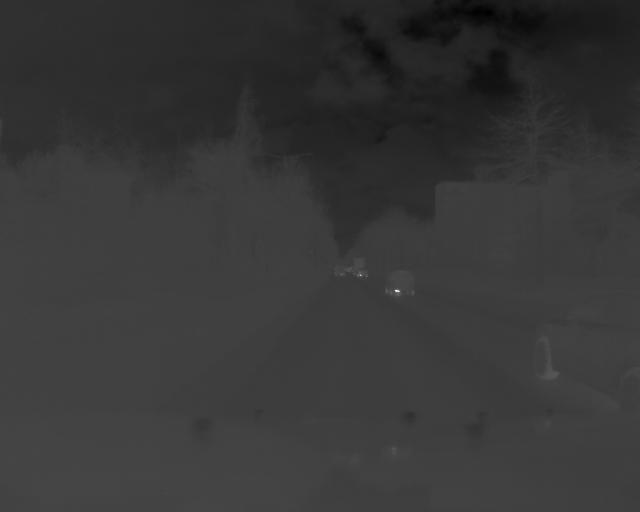car: (532, 293, 640, 409), (384, 269, 418, 299)
